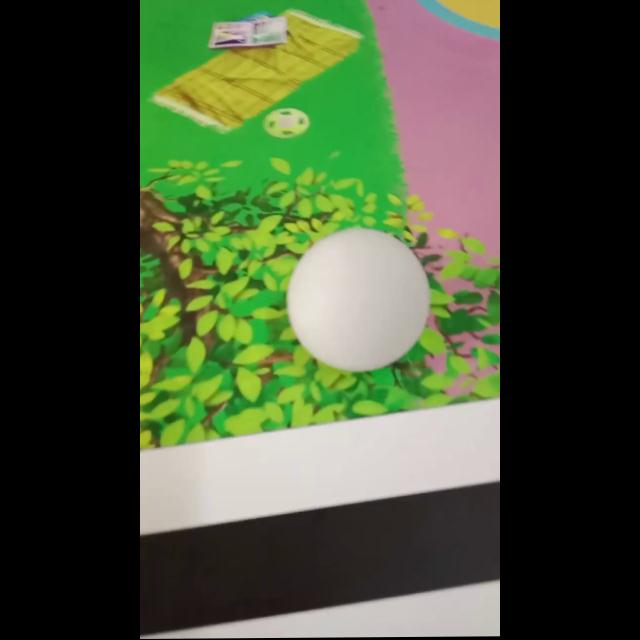white ball: (286, 226, 430, 373)
